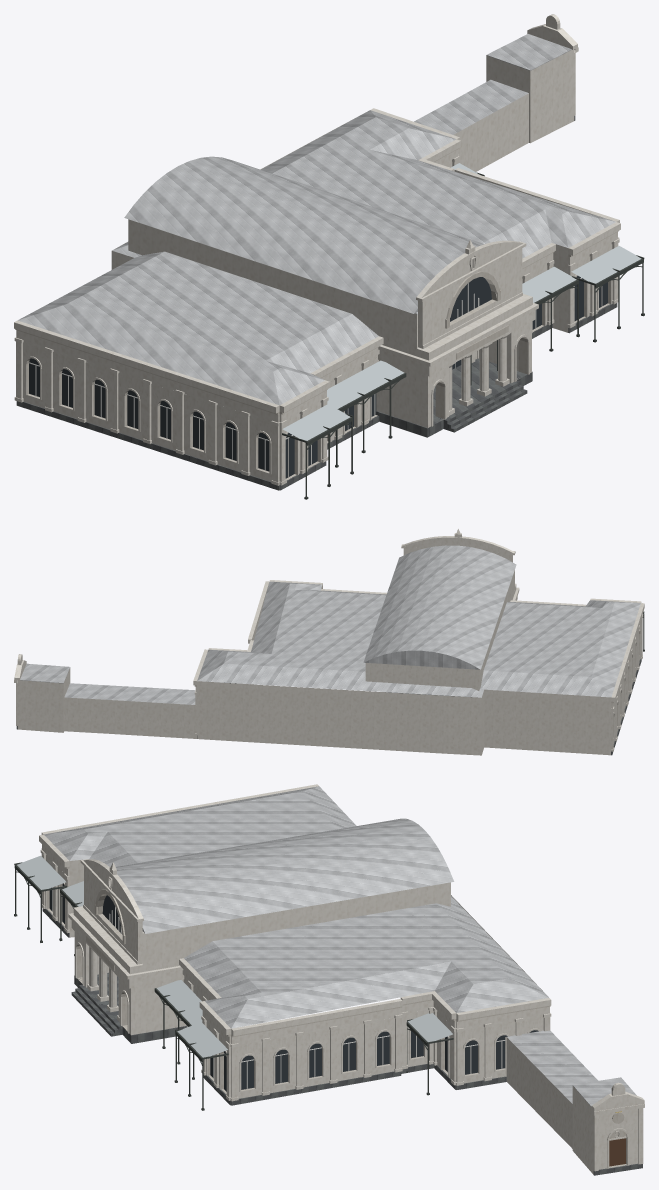
3 views of the same model, one above another, from view 1: azimuth 30°, elevation 25°; view 2: azimuth 150°, elevation 25°; view 3: azimuth 270°, elevation 25° (orthographic). The views are drawn at different scales.
Visible parts, largest first — view 1: bldg_231220414_landmark; view 2: bldg_231220414_landmark; view 3: bldg_231220414_landmark.
Part boxes in pixels (left/top/right/bottom): bldg_231220414_landmark: left=14, top=14, right=644, bottom=499; bldg_231220414_landmark: left=14, top=529, right=644, bottom=755; bldg_231220414_landmark: left=14, top=784, right=644, bottom=1175.
Size of the model in its own units: 72.61 by 16.1 by 61.2.
Materials: 10 (4 with a texture image).
